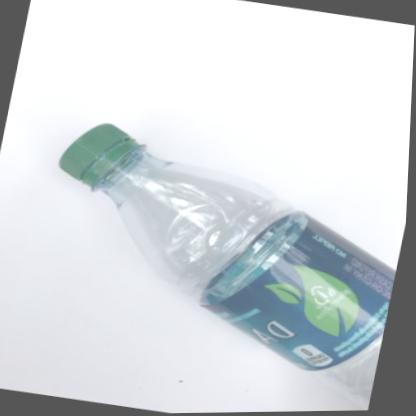Plastic: (61, 124, 398, 408)
